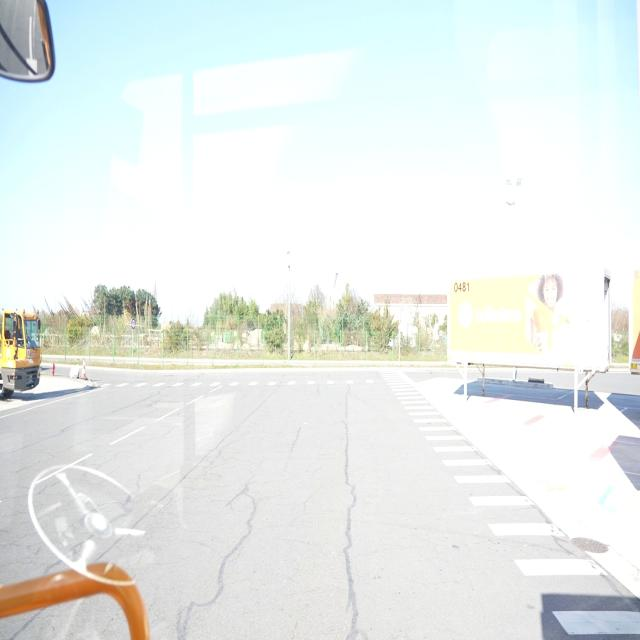Code: (450, 278, 470, 296)
